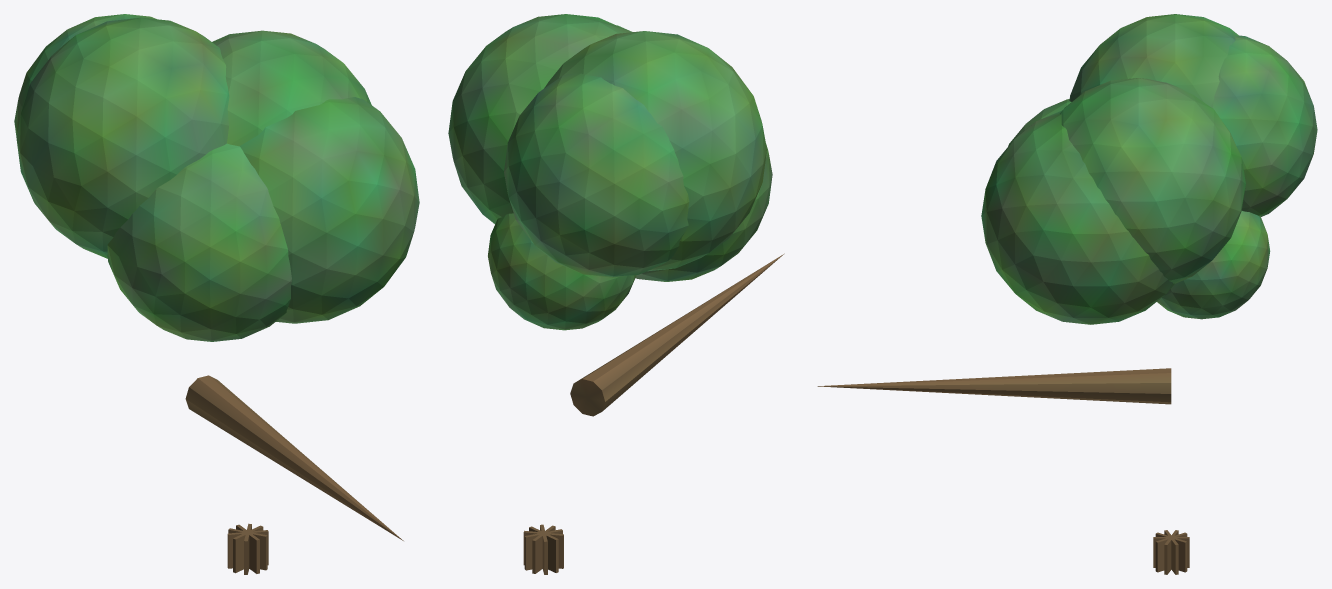
File: tree_7.glb
3 renders of one model, left to right at view 1: azimuth 30°, elevation 25°; view 2: azimuth 150°, elevation 25°; view 3: azimuth 270°, elevation 25°, orthographic. The views are drawn at different scales.
Parts seen in each view (by area): view 1: world; view 2: world; view 3: world.
Boxes of the visible parts, left/top/right/bottom form: world: left=14, top=14, right=419, bottom=574; world: left=448, top=14, right=784, bottom=574; world: left=817, top=14, right=1317, bottom=574.
Bounding box in the file's own units: 6.01 × 10.01 × 9.16.
